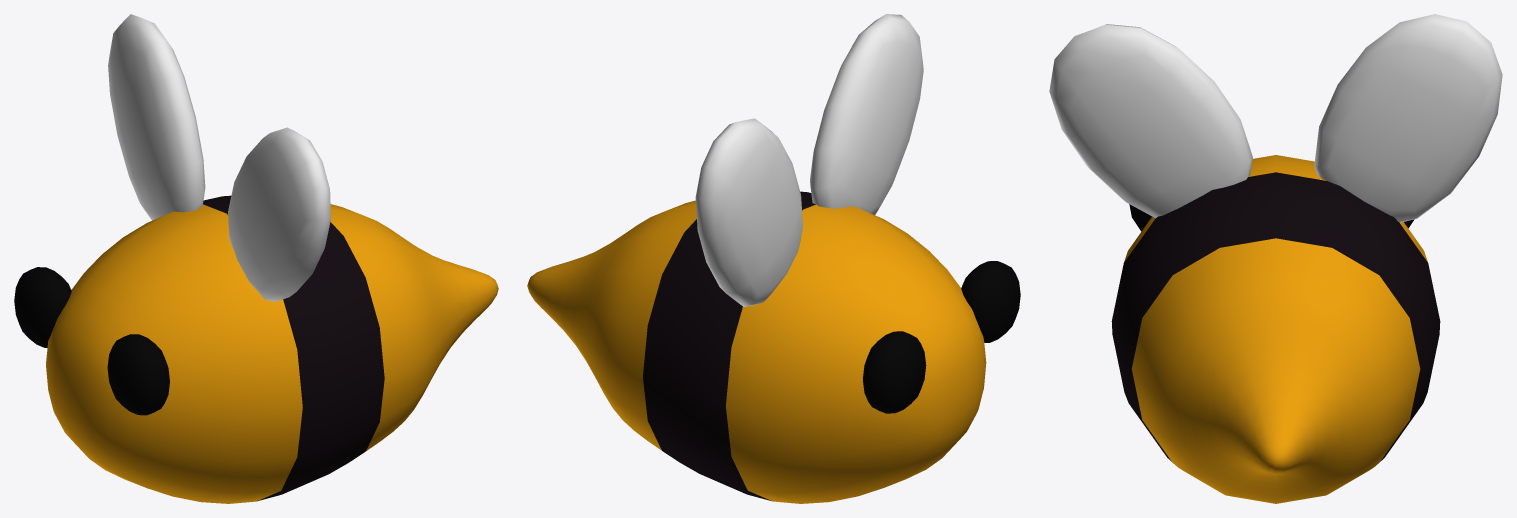
The model's file is bee.fbx.
3 renders of one model, left to right at view 1: azimuth 30°, elevation 25°; view 2: azimuth 150°, elevation 25°; view 3: azimuth 270°, elevation 25°, orthographic. The views are drawn at different scales.
Parts seen in each view (by area): view 1: Cube; view 2: Cube; view 3: Cube.
Boxes of the visible parts, x1,y1,x2,y2 form: Cube: [14, 14, 498, 503]; Cube: [527, 14, 1020, 503]; Cube: [1049, 14, 1502, 503].
Size of the model in its own units: 360 by 333 by 303.
